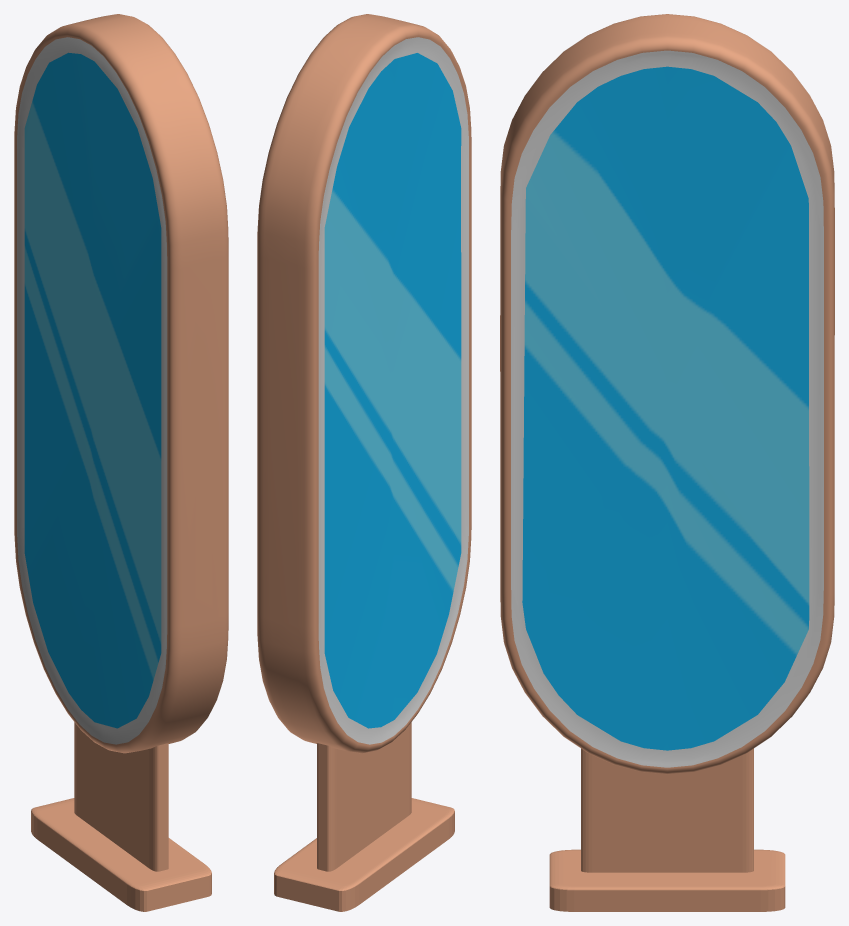
File: Mirror.fbx
3 renders of one model, left to right at view 1: azimuth 30°, elevation 25°; view 2: azimuth 150°, elevation 25°; view 3: azimuth 270°, elevation 25°, orthographic. The views are drawn at different scales.
Visible parts, largest first — view 1: Cube.022; view 2: Cube.022; view 3: Cube.022.
Boxes of the visible parts, left/top/right/bottom form: Cube.022: left=14, top=14, right=228, bottom=911; Cube.022: left=257, top=14, right=471, bottom=911; Cube.022: left=500, top=14, right=834, bottom=911.
Size of the model in its own units: 17.55 by 177 by 62.1.
